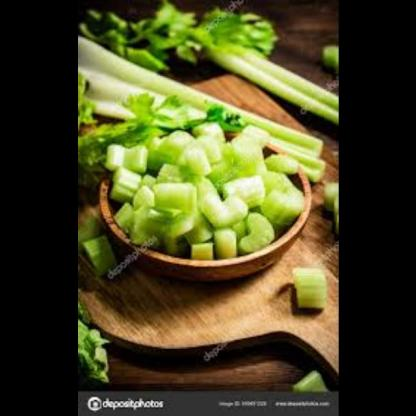celery: (77, 29, 338, 193), (103, 100, 298, 260), (87, 0, 337, 111), (77, 202, 131, 282), (77, 305, 120, 385), (282, 259, 332, 314), (309, 170, 337, 235), (284, 367, 328, 392)
